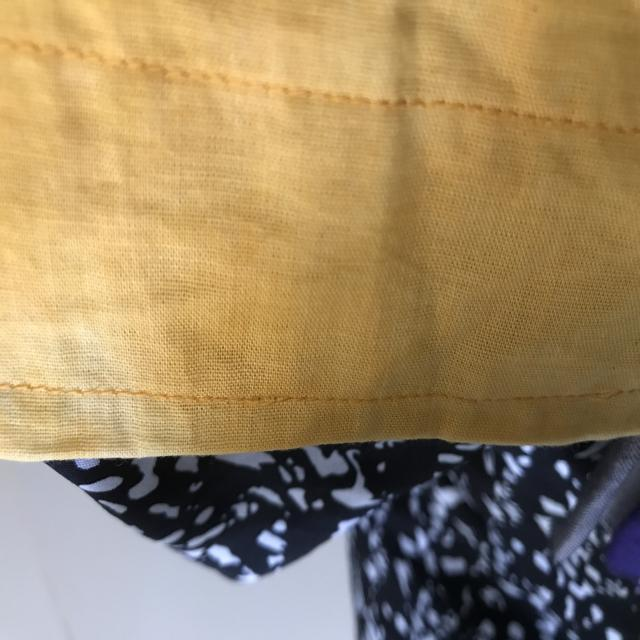skip: (227, 374, 295, 417)
